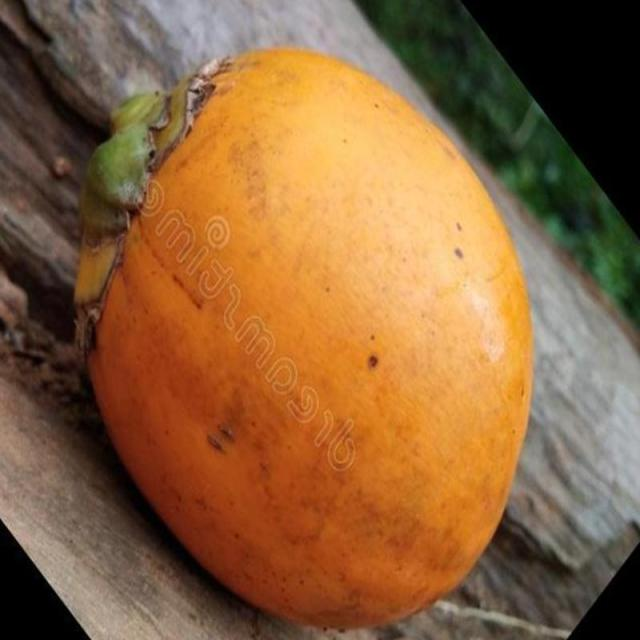good: (74, 49, 532, 628)
